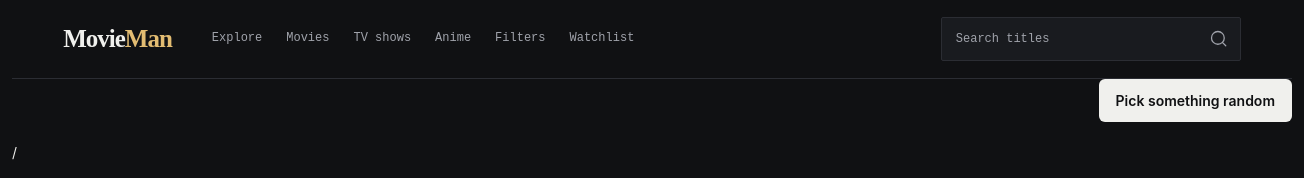
Test case: navigation searches both media types and keeps browse links visible
Type "A & B" into the dropdown named "Search movies and TV shows". click: x=1091, y=38
box: x1=941 y1=16 x2=1241 y2=60
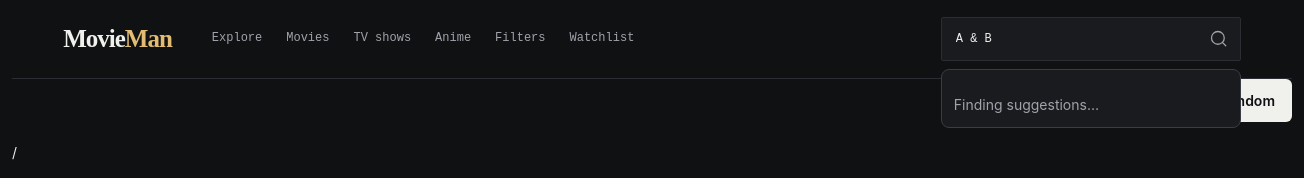
Submit the form, box x1=941 y1=16 x2=1241 y2=60
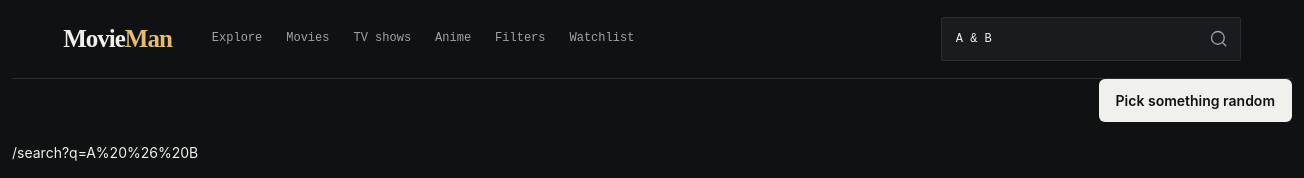
Check: the text with test id "location" reads "/search?q=A%20%26%20B", box x1=12 y1=144 x2=198 y2=161
